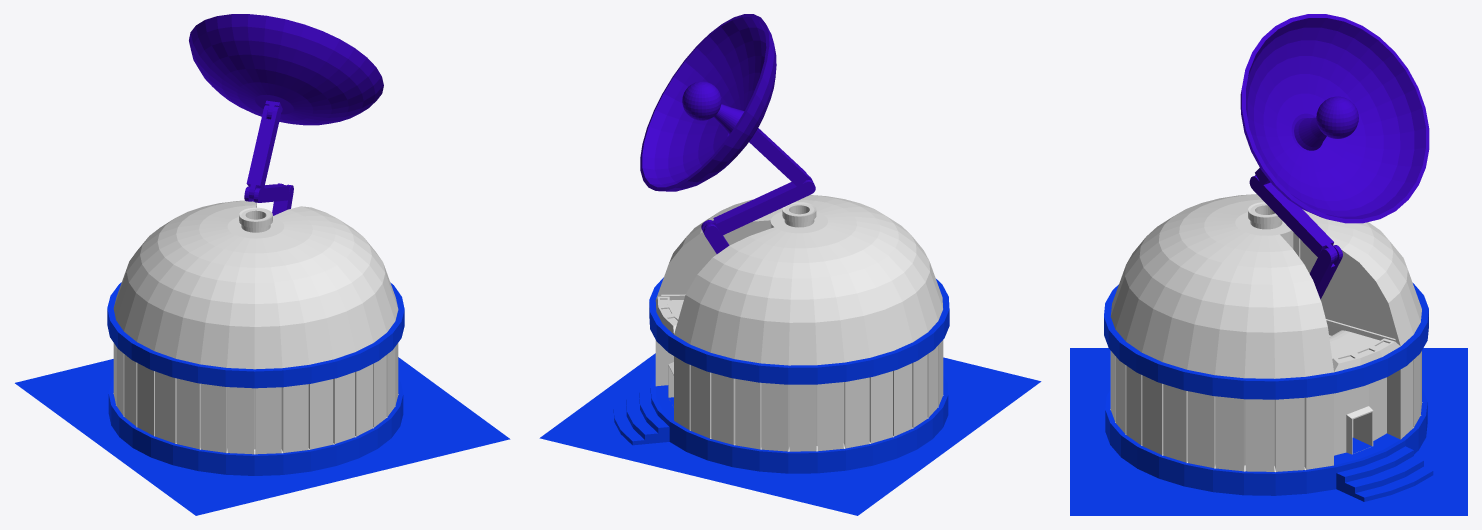
File: antenna_blue.fbx
3 views of the same model, side by side, from view 1: azimuth 30°, elevation 25°; view 2: azimuth 150°, elevation 25°; view 3: azimuth 270°, elevation 25° (orthographic). The views are drawn at different scales.
Visible parts, largest first — view 1: Cylinder.001, Plane, Sphere, Cube.005, Cube.004; view 2: Cylinder.001, Plane, Sphere, Cube.004, Sphere.002, Cube.005; view 3: Cylinder.001, Sphere, Plane, Cube.004, Sphere.002, Cube.003.
Part boxes in pixels (x1,y1,x2,y2): Cylinder.001: (107,200,404,475); Plane: (15,357,510,515); Sphere: (189,14,383,125); Cube.005: (246,105,281,199); Cube.004: (244,184,289,202); Cylinder.001: (613,195,949,473); Plane: (539,353,1041,515); Sphere: (640,14,776,191); Cube.004: (704,178,815,235); Sphere.002: (682,81,721,120); Cube.005: (749,128,812,187); Cylinder.001: (1104,194,1433,501); Sphere: (1240,14,1429,223); Plane: (1070,348,1467,515); Cube.004: (1249,175,1337,261); Sphere.002: (1316,96,1358,138); Cube.003: (1309,245,1342,299).
Bounding box in the file's own units: 1000 × 1172 × 1000.
